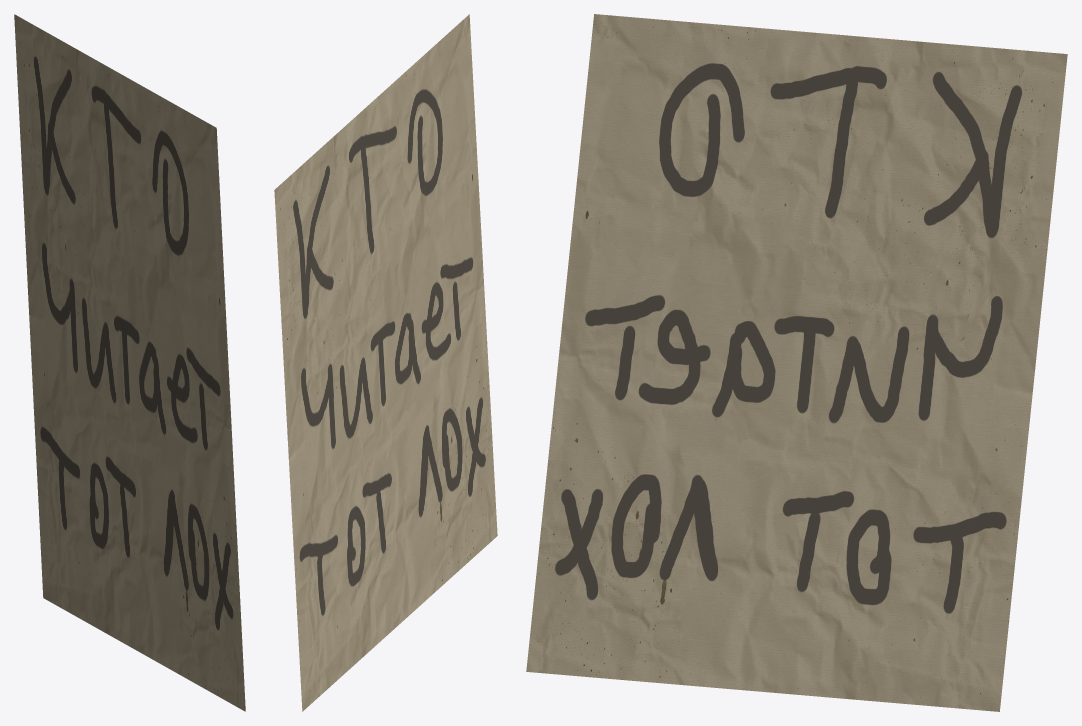
File: big_note.glb
The picture shows the model from 3 angles, left to right: view 1: azimuth 30°, elevation 25°; view 2: azimuth 150°, elevation 25°; view 3: azimuth 270°, elevation 25°; orthographic projection. The views are drawn at different scales.
Visible parts, largest first — view 1: big_note; view 2: big_note; view 3: big_note.
Part boxes in pixels (left/top/right/bottom): big_note: left=14, top=14, right=245, bottom=711; big_note: left=274, top=14, right=497, bottom=711; big_note: left=526, top=14, right=1067, bottom=711.
Bounding box in the file's own units: 2.06e-07 × 4.38 × 3.08.
1 material, 1 textured.
